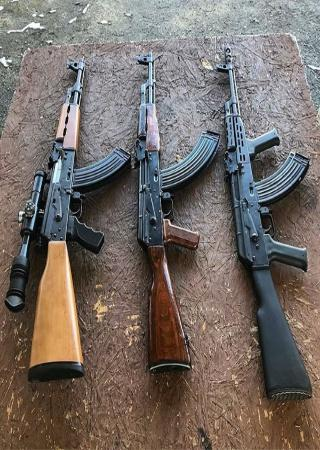weapon: (5, 61, 131, 381), (216, 47, 311, 402), (136, 52, 222, 373)
